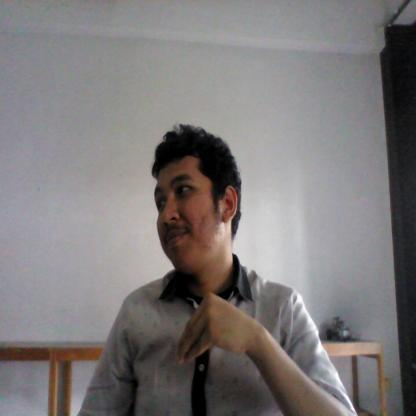Malam: (167, 287, 286, 392)
